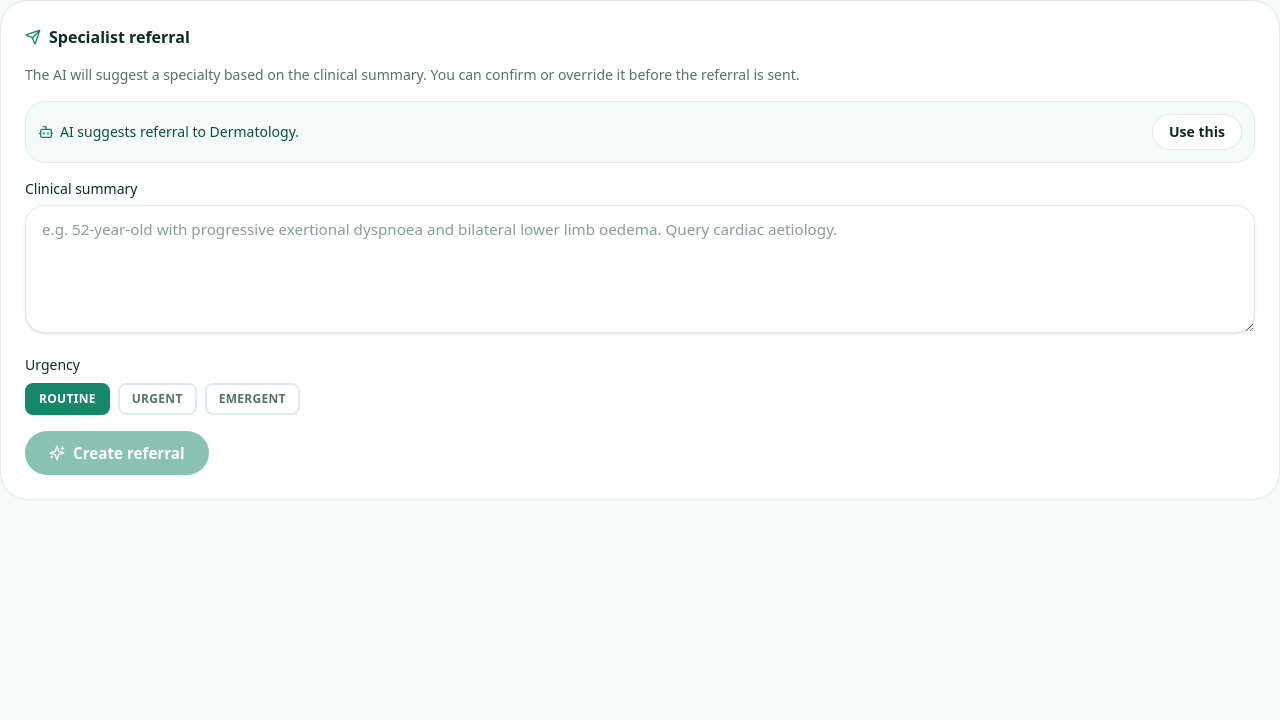
Test: ReferralCard › prefills the clinical summary with the AI specialty on 'Use this'
Click the button "Use this" at [1197, 132], box x1=1152 y1=114 x2=1242 y2=150
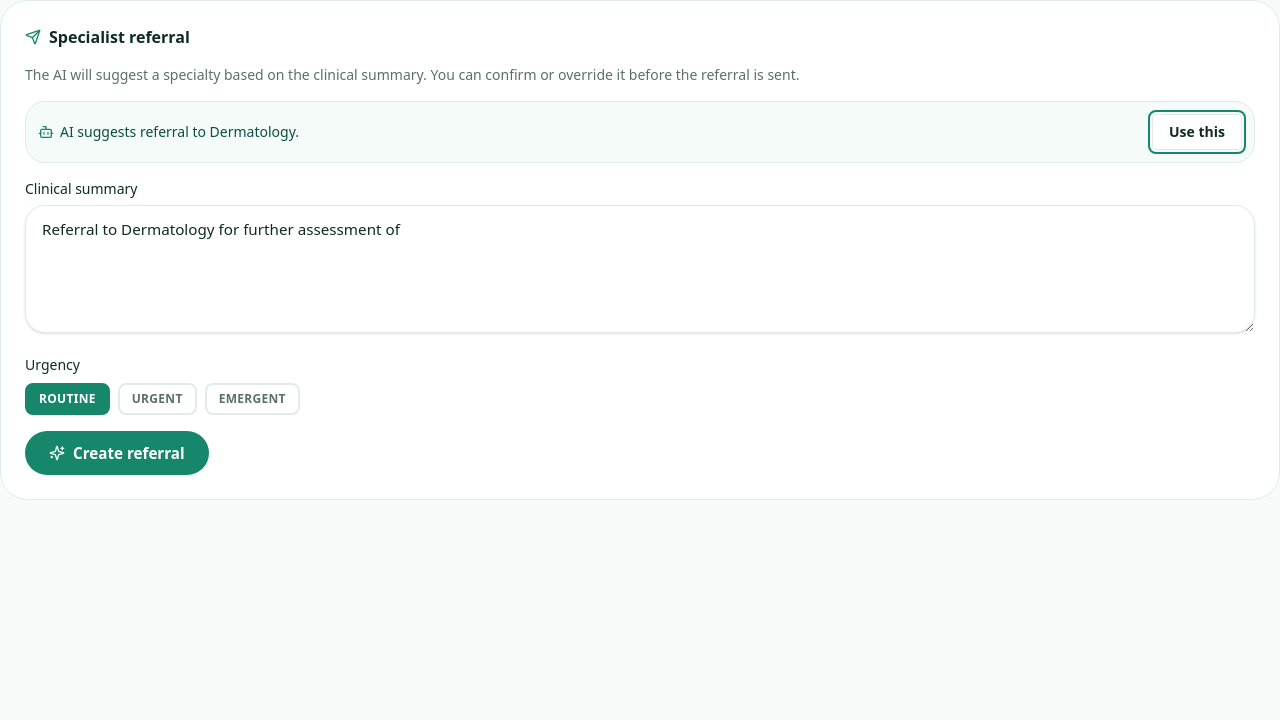
Now the text box with placeholder "52-year-old" holds "Referral to Dermatology for further assessment of ", box x1=25 y1=205 x2=1255 y2=333
